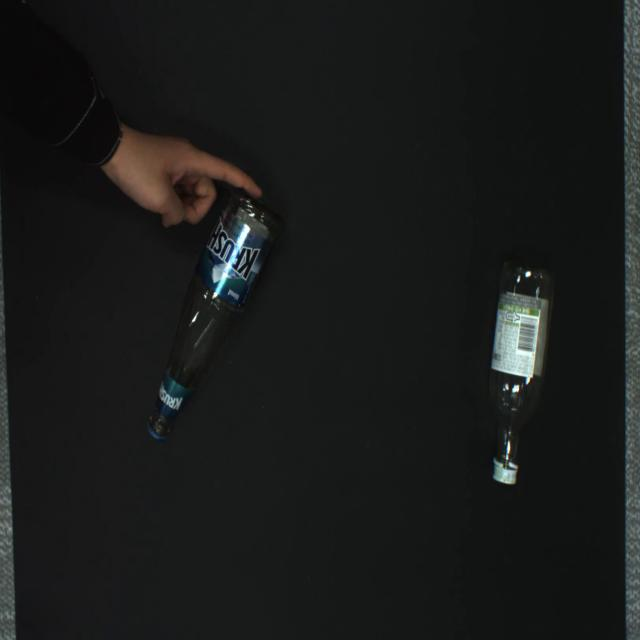beer-bottle: (147, 191, 279, 439)
soju-bottle: (489, 263, 553, 484)
